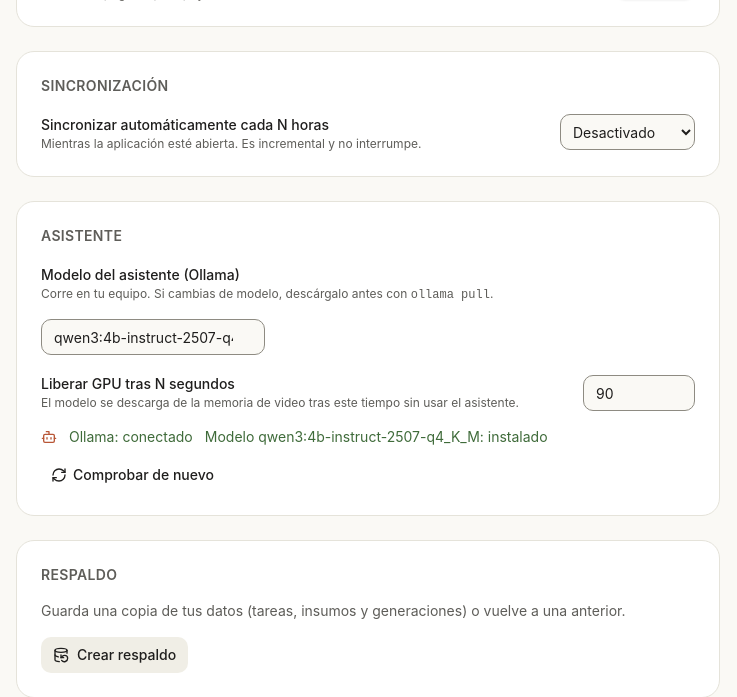
configuración avanzada › muestra el estado de Ollama y guarda el modelo del asistente
(page scrolled)
Check: the text "Ollama: conectado" is shown, box x1=69 y1=427 x2=193 y2=447
Replace the text in the field labelled "Modelo del asistente (Ollama)" with "qwen3:8b". click: (153, 337)
box: x1=41 y1=319 x2=265 y2=355
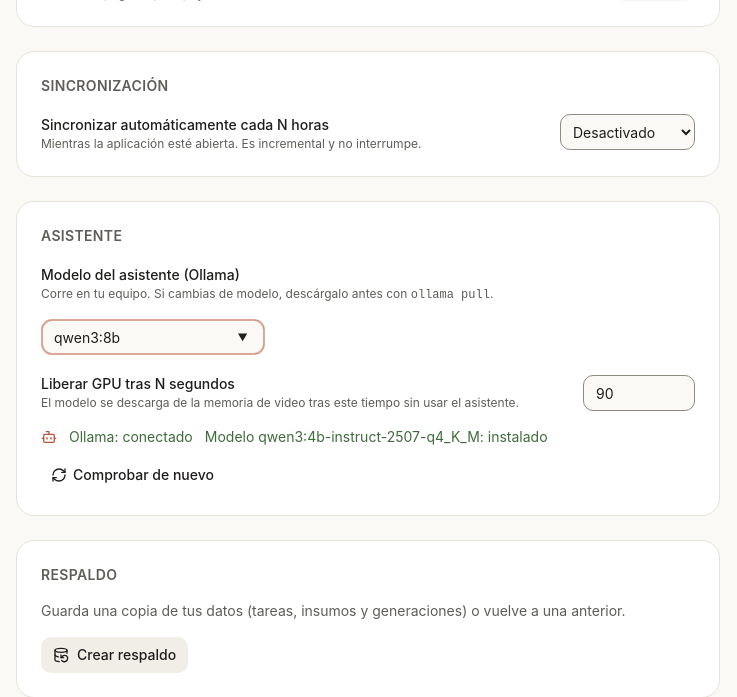
Press Tab
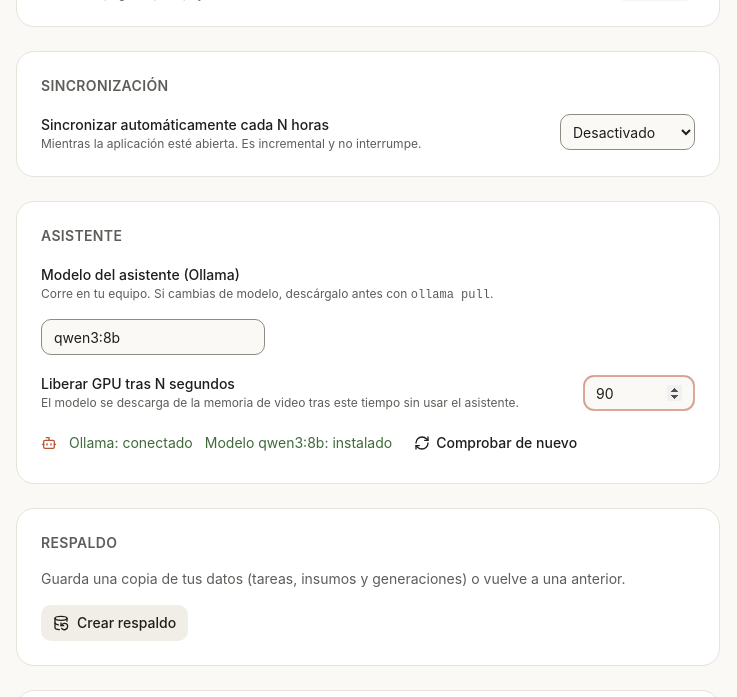
Check: the text "Modelo qwen3:8b: instalado" is shown, box x1=205 y1=433 x2=392 y2=453
